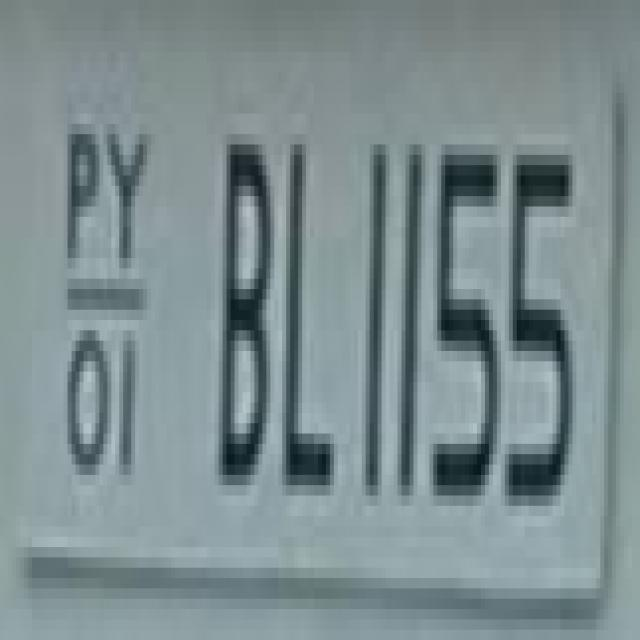5: (432, 127, 503, 517), (508, 121, 577, 514)
B: (218, 128, 272, 496)
I: (394, 136, 426, 510), (362, 140, 388, 504)
L: (282, 132, 334, 491)
